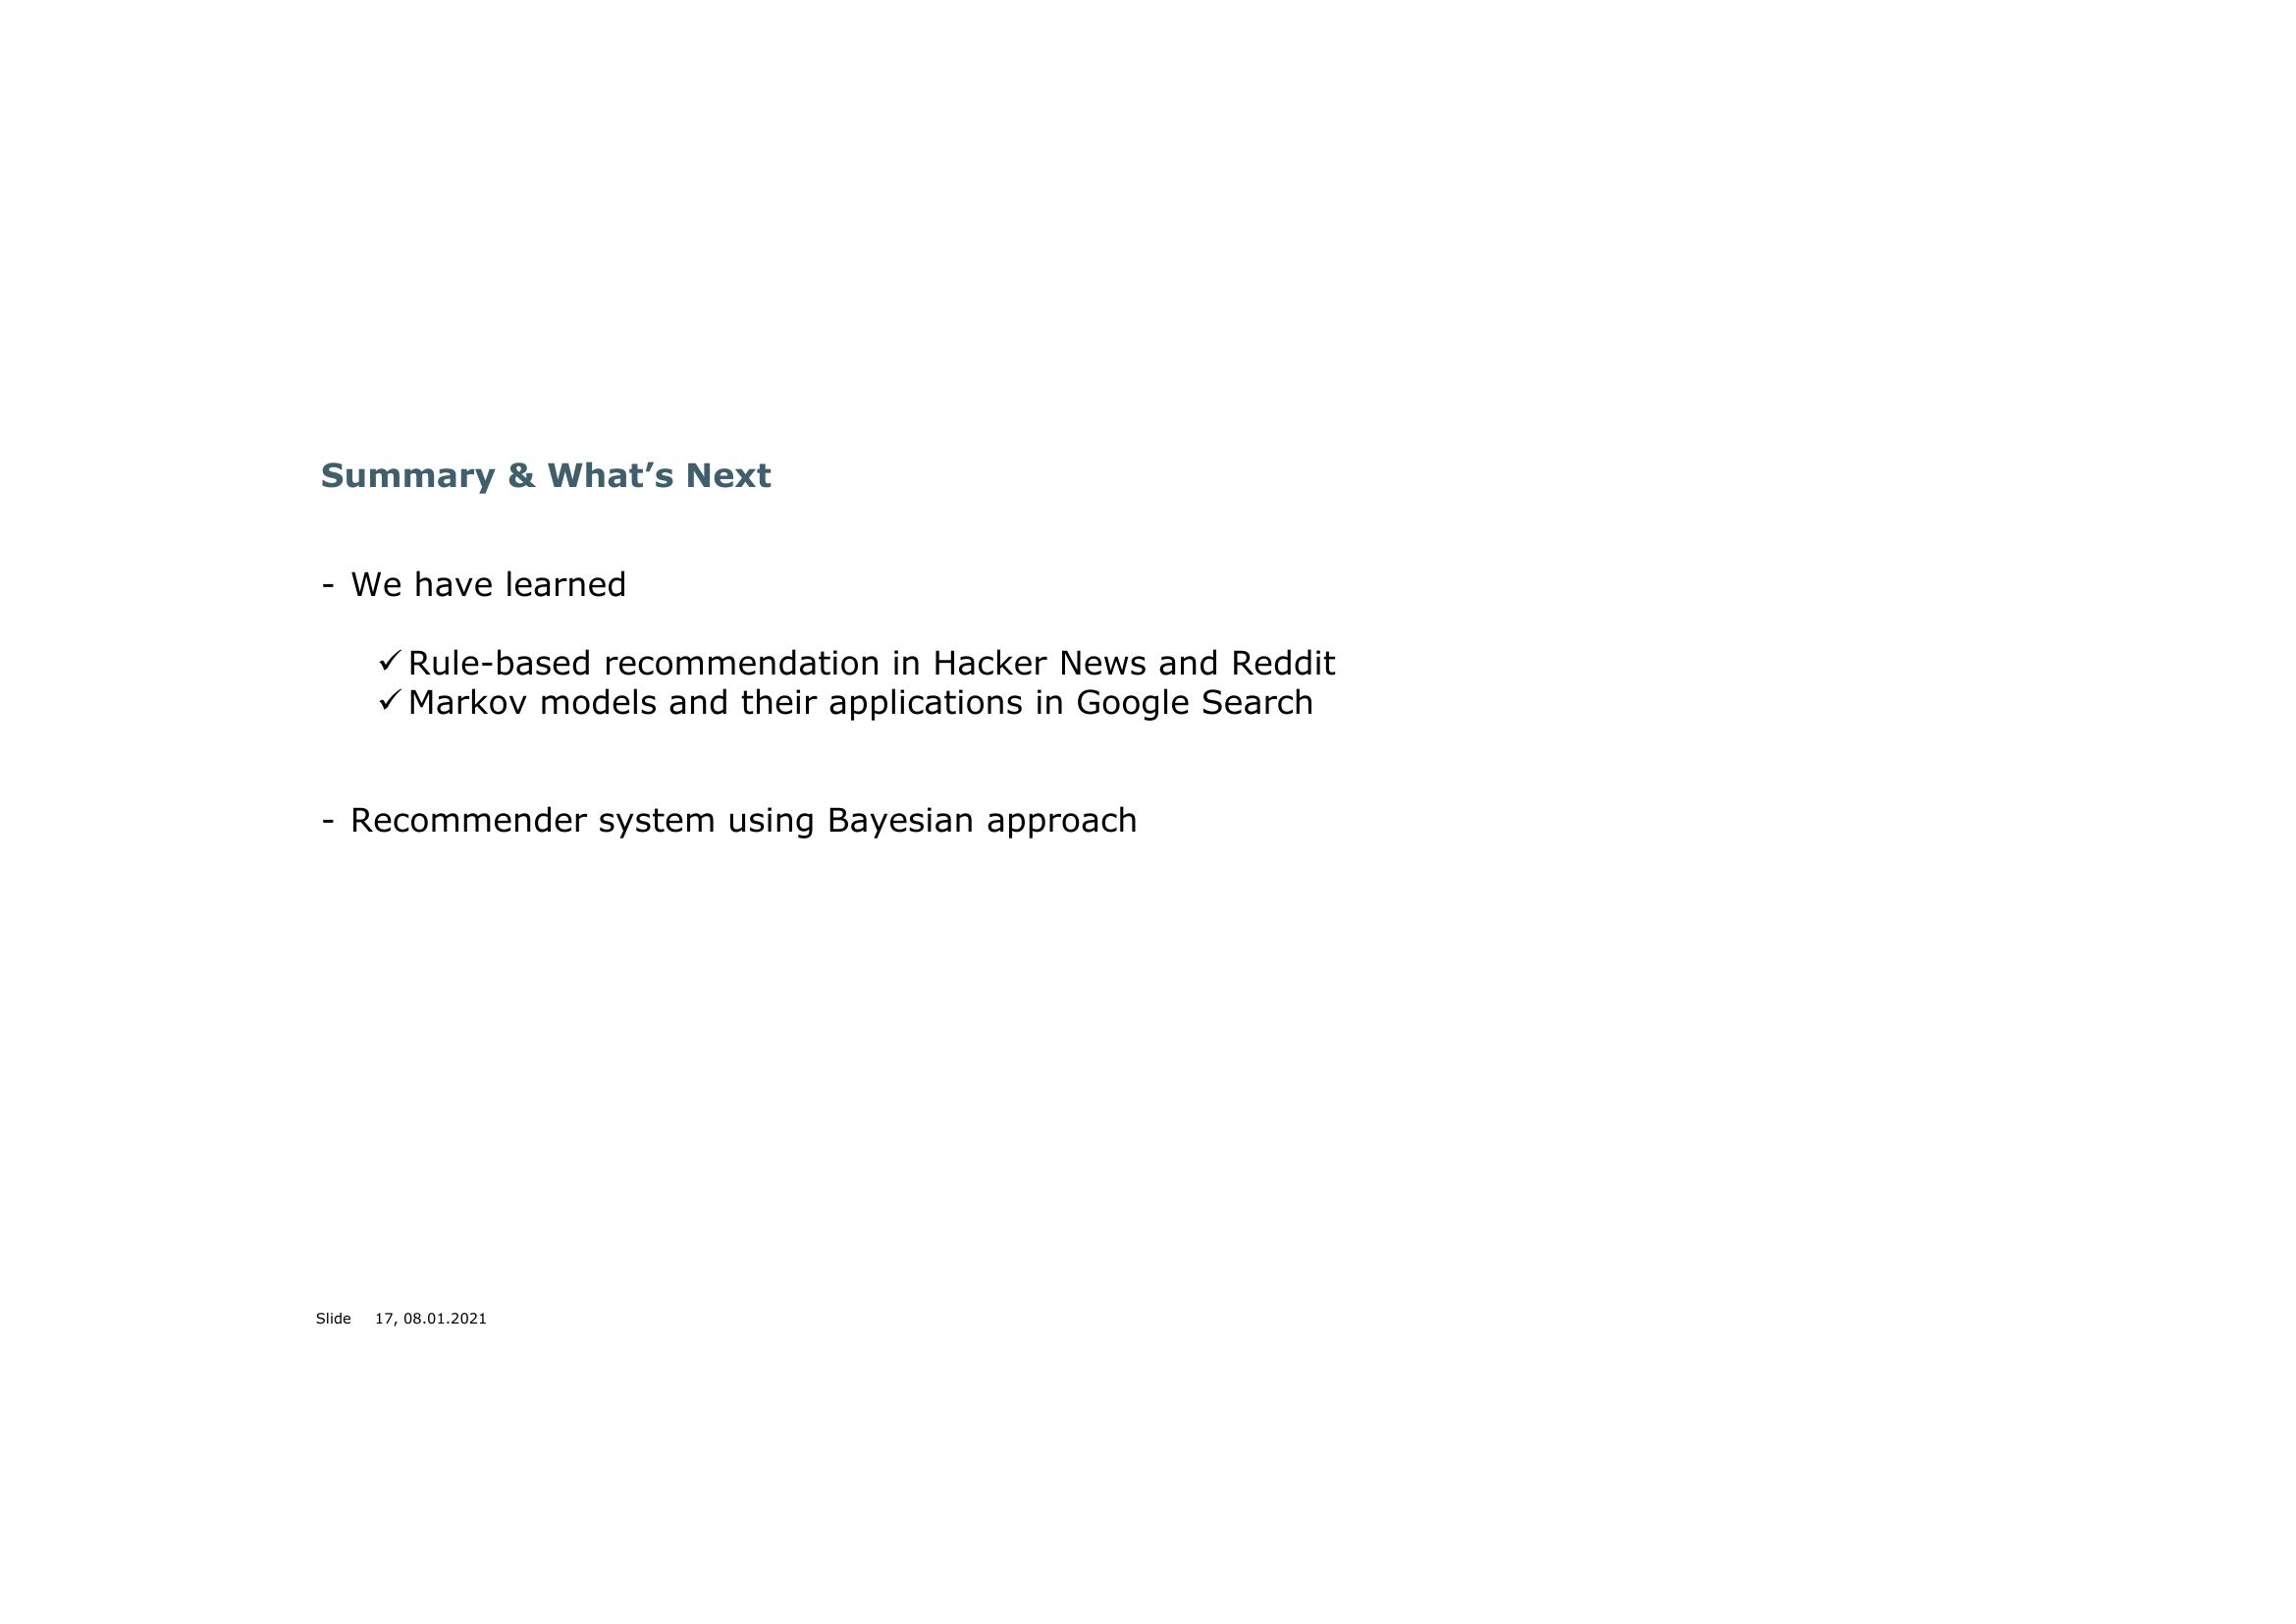Title: (299, 432, 783, 511)
